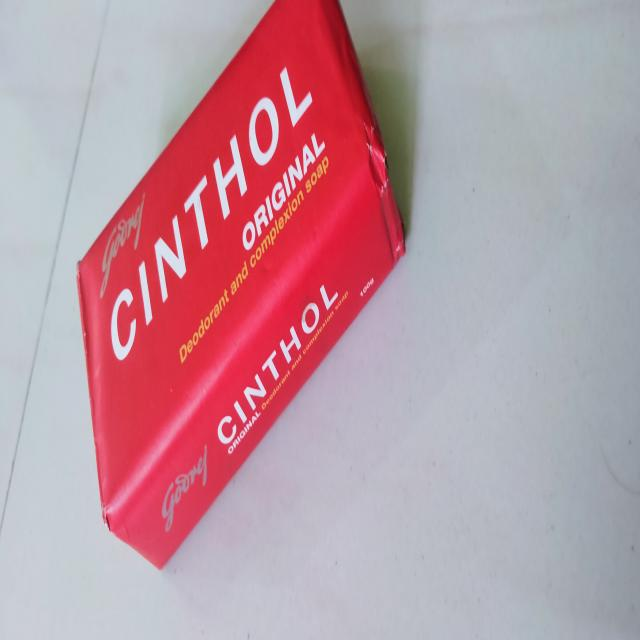soap: (79, 4, 404, 576)
